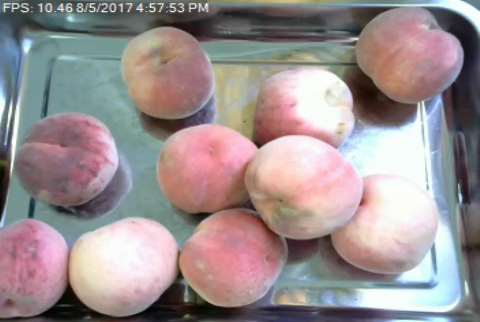Peach: (245, 136, 358, 239), (332, 169, 436, 275), (68, 218, 176, 316), (354, 7, 464, 102), (181, 209, 286, 307), (15, 112, 117, 205), (156, 121, 260, 210), (121, 25, 216, 117), (250, 66, 354, 149), (0, 219, 69, 316)
